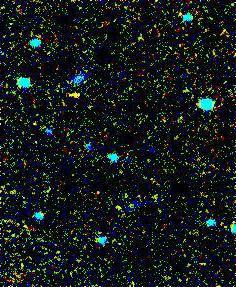star: (59, 80, 89, 110)
